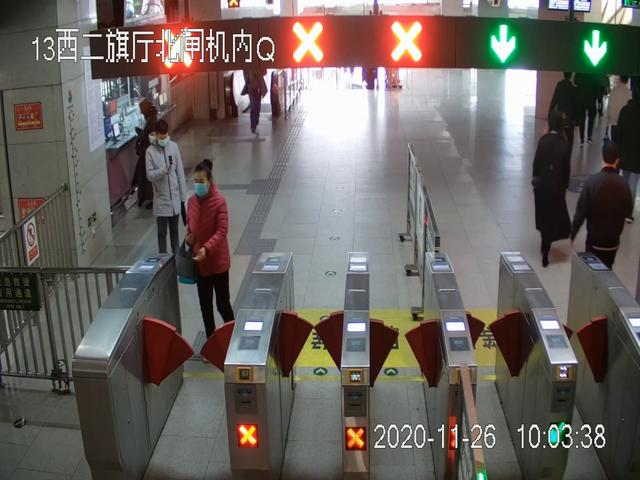person: (179, 160, 234, 361), (574, 142, 634, 280), (532, 112, 572, 265), (147, 119, 188, 266)
